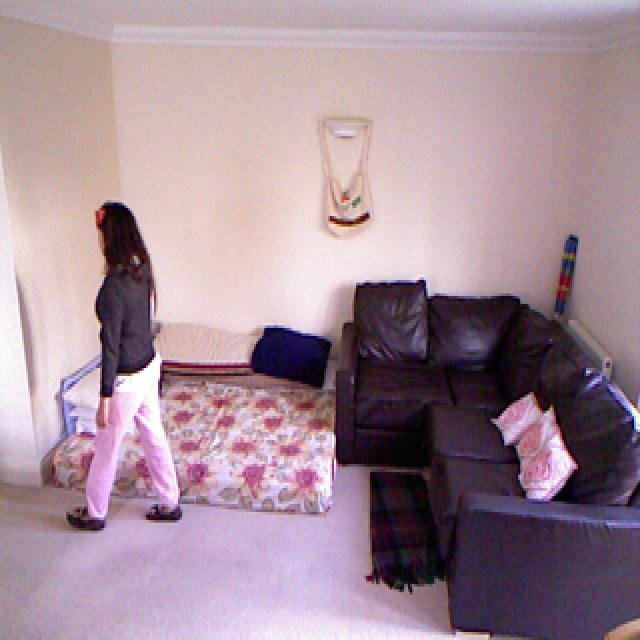stand: (77, 199, 189, 522)
